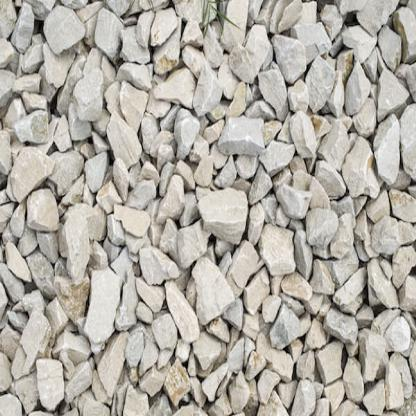Sedimentary_Limestone: (186, 258, 235, 327), (198, 184, 246, 250), (368, 111, 406, 191), (101, 107, 147, 171), (84, 270, 122, 347), (57, 212, 96, 280), (6, 146, 54, 200), (42, 2, 88, 55), (218, 115, 267, 158), (151, 66, 196, 112), (32, 360, 71, 413), (262, 221, 298, 278), (90, 3, 123, 64), (284, 109, 318, 166), (114, 192, 153, 240), (155, 172, 191, 224), (72, 70, 106, 125), (276, 29, 308, 84), (338, 18, 375, 64), (25, 191, 61, 237), (196, 58, 223, 119), (323, 305, 360, 348), (385, 311, 414, 362), (245, 261, 272, 315), (140, 251, 180, 286), (307, 206, 341, 244), (149, 9, 180, 50), (244, 22, 272, 66), (341, 360, 367, 405), (152, 315, 182, 350), (328, 67, 351, 110)
